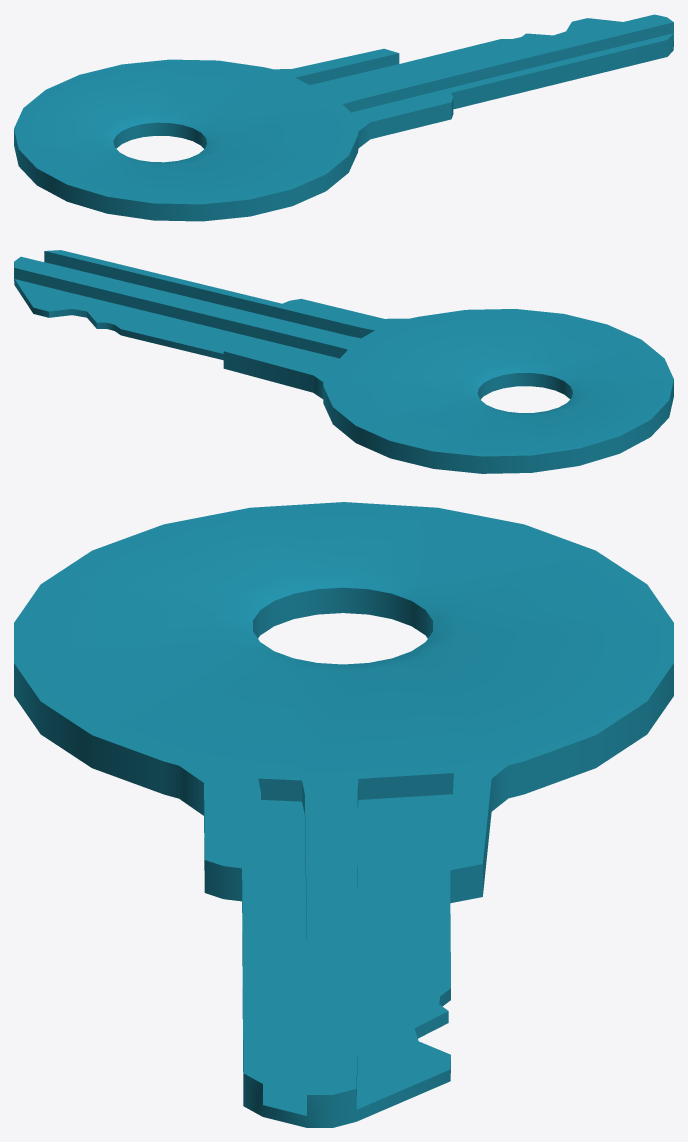
Rendered from key_fin.fbx.
3 views of the same model, one above another, from view 1: azimuth 30°, elevation 25°; view 2: azimuth 150°, elevation 25°; view 3: azimuth 270°, elevation 25° (orthographic). The views are drawn at different scales.
Parts seen in each view (by area): view 1: low; view 2: low; view 3: low.
Boxes of the visible parts, x1=… form: low: x1=14, y1=14, x2=673, y2=221; low: x1=14, y1=250, x2=673, y2=473; low: x1=14, y1=502, x2=673, y2=1127.
Bounding box in the file's own units: 60.03 × 1.56 × 28.24.
